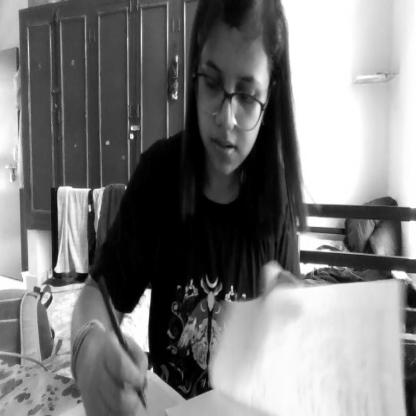Normal: (191, 0, 284, 188)
